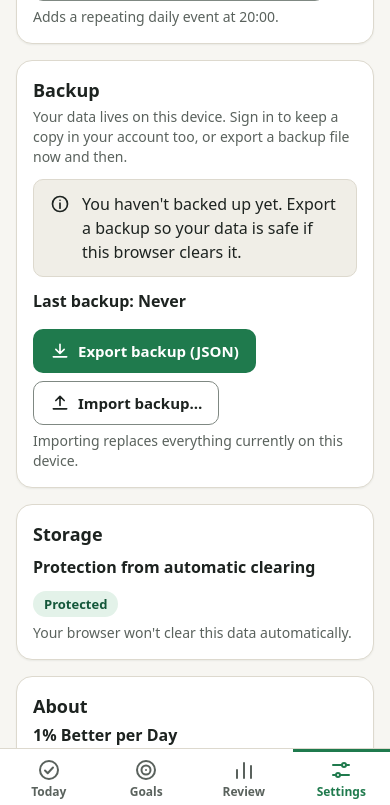
it: Export never lets an error escape (M10-AC10, M3-P1, M8-P1) › (b) claimExportHint rejects → export still succeeds (toast + file), no hint, console.warn
The image size is (390, 805).
(page scrolled)
What coordinates should you click on to do the following:
click the button "Export backup (JSON)"
I would click on:
 (144, 351)
Its box is [33,329,256,373].
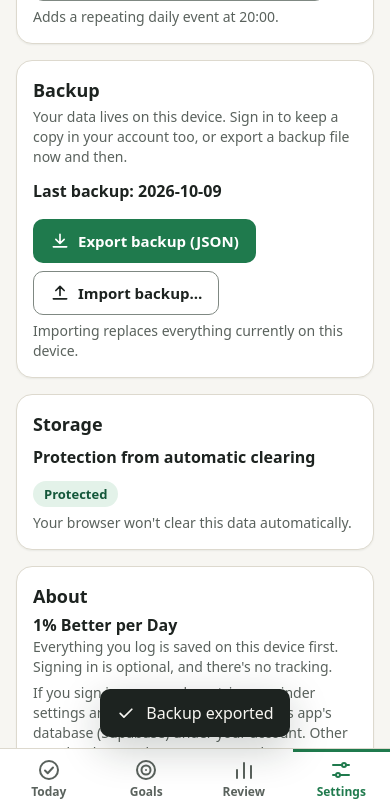
Result: the message reads "Backup exported" at [146,702,274,724]
